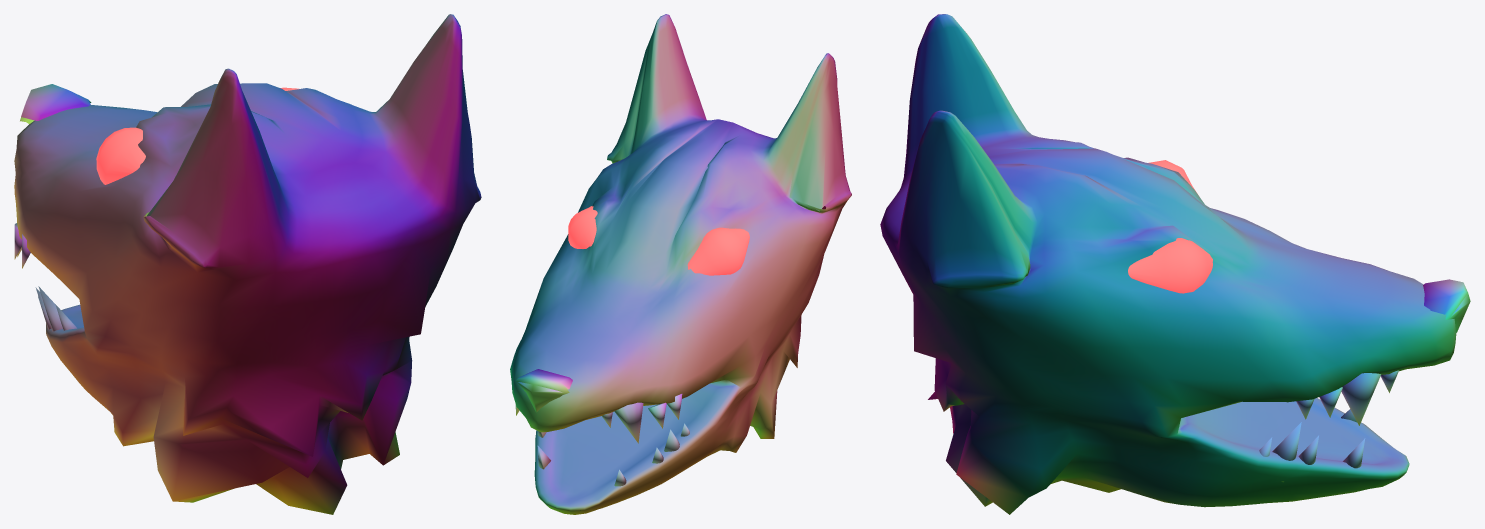
The model's file is wolf-vertexcolours.fbx.
3 renders of one model, left to right at view 1: azimuth 30°, elevation 25°; view 2: azimuth 150°, elevation 25°; view 3: azimuth 270°, elevation 25°, orthographic. The views are drawn at different scales.
Visible parts, largest first — view 1: Low, Eyes, Nose, Teeth; view 2: Low, Eyes, Teeth, Nose; view 3: Low, Eyes, Teeth, Nose.
Part boxes in pixels (x1,y1,x2,y2): Low: [14, 14, 481, 514]; Eyes: [96, 87, 298, 184]; Nose: [20, 84, 91, 124]; Teeth: [14, 223, 77, 331]; Low: [510, 14, 851, 514]; Eyes: [568, 206, 749, 275]; Teeth: [515, 394, 689, 486]; Nose: [516, 369, 572, 412]; Low: [880, 14, 1456, 514]; Eyes: [1128, 160, 1212, 293]; Teeth: [1259, 370, 1398, 482]; Nose: [1423, 279, 1470, 332].
Bounding box in the file's own units: 163 × 252 × 308.
